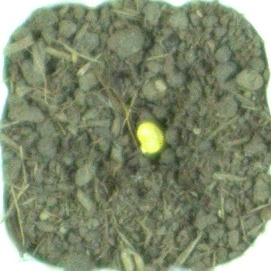chilli seed: (133, 120, 169, 157)
